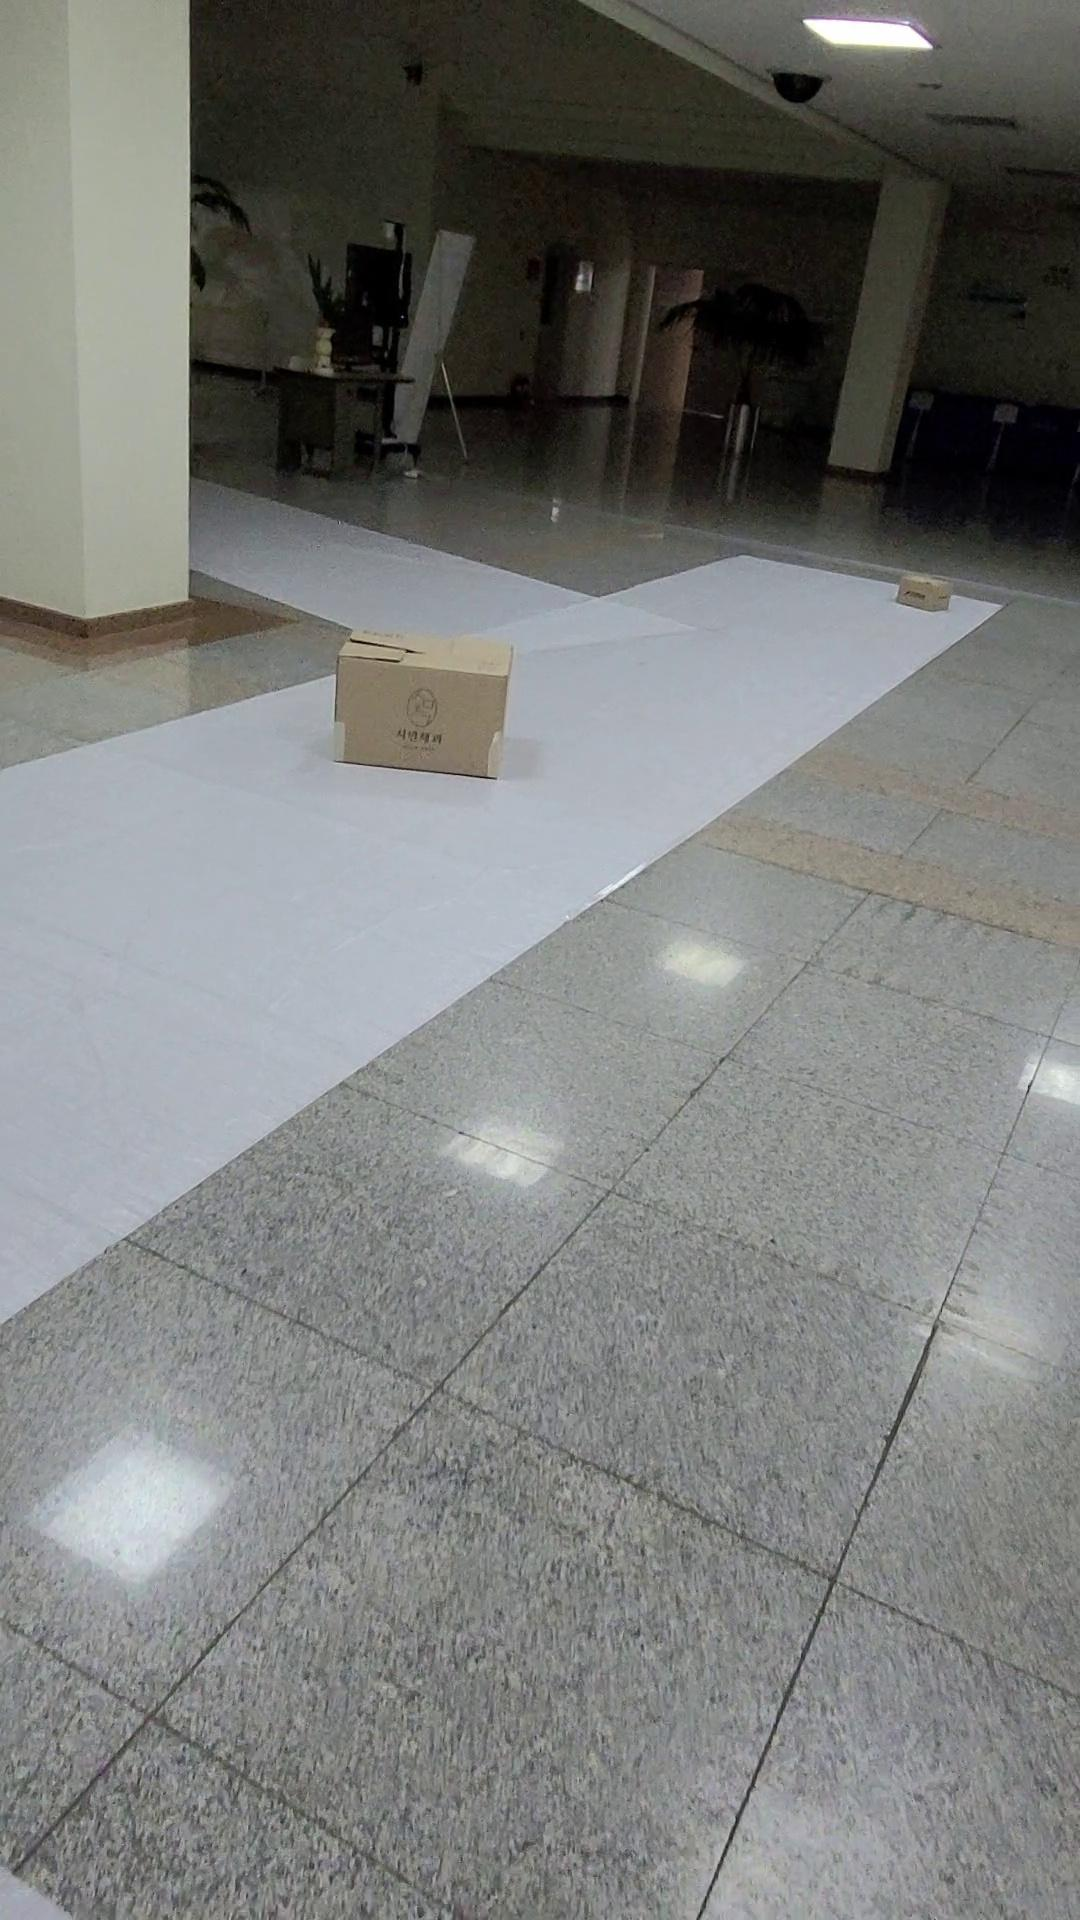Box: (278, 575, 555, 820), (866, 510, 990, 636)
